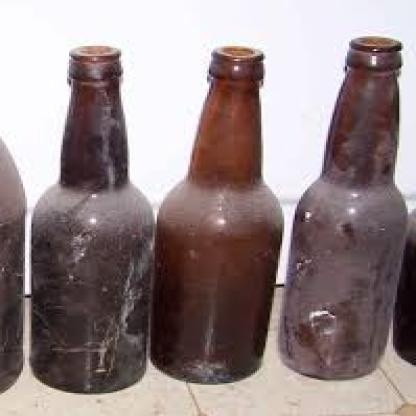trash: (152, 47, 282, 382), (280, 37, 406, 378), (31, 46, 153, 392)
